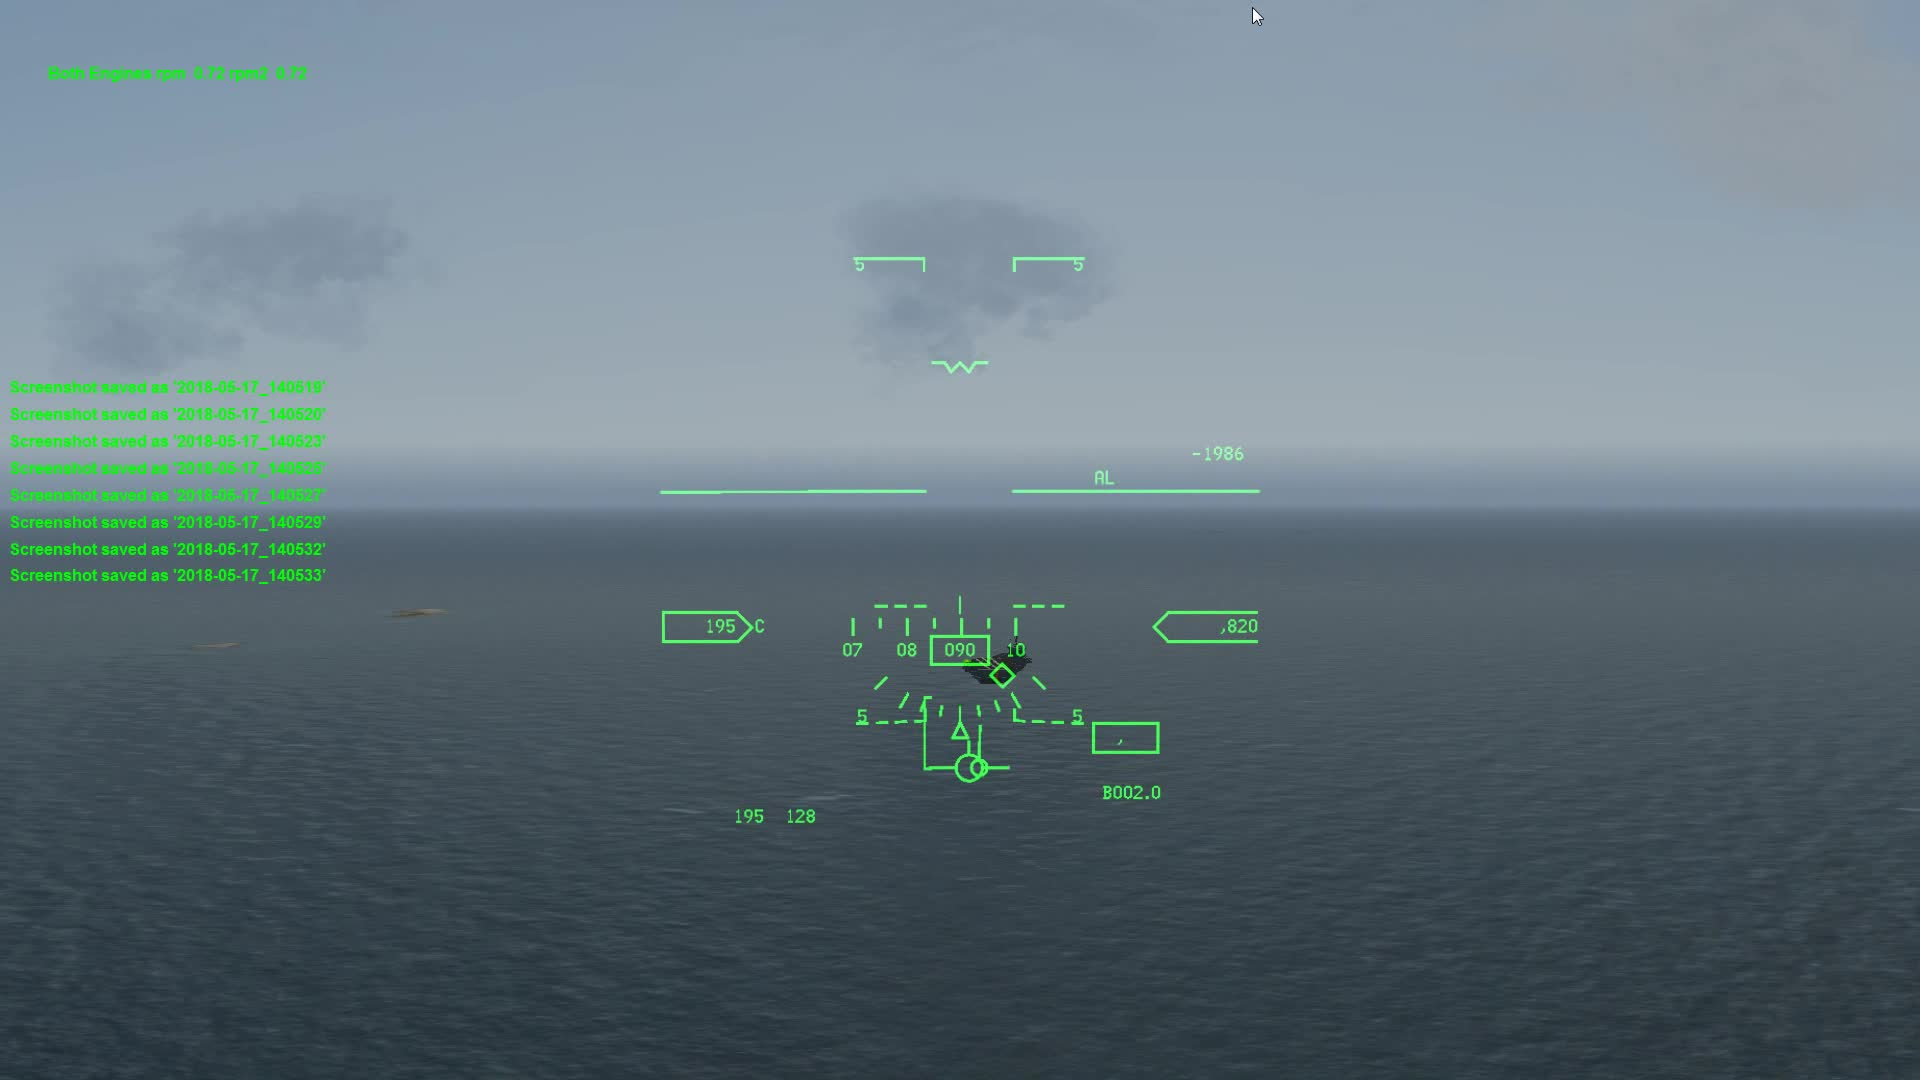speed vector: (927, 741, 1015, 785)
